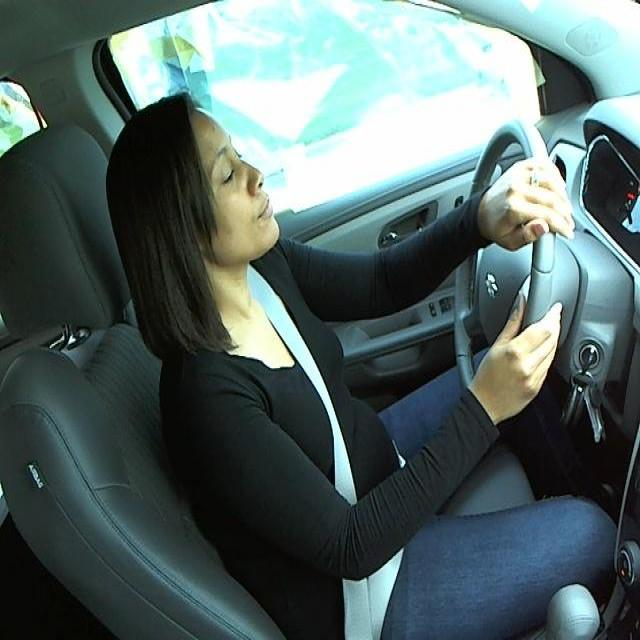without_using_phone: (73, 57, 343, 381)
